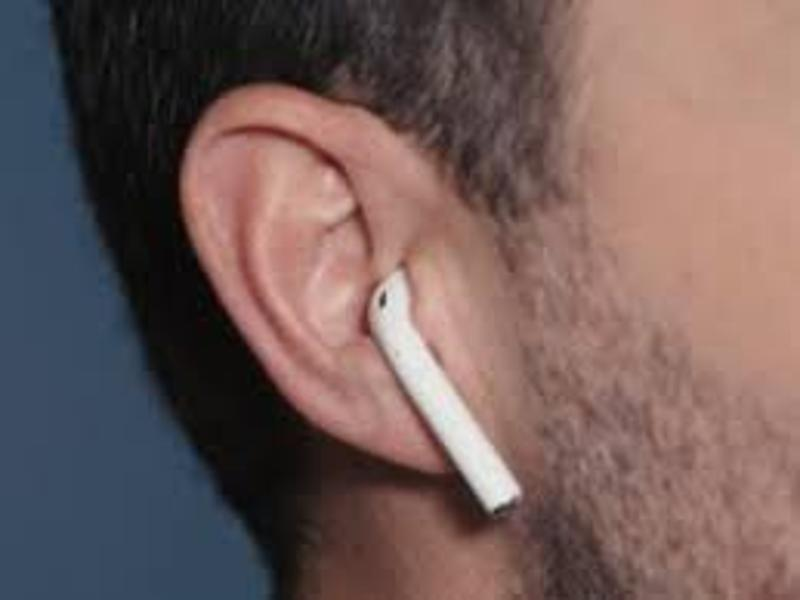headphone: (364, 268, 524, 521)
